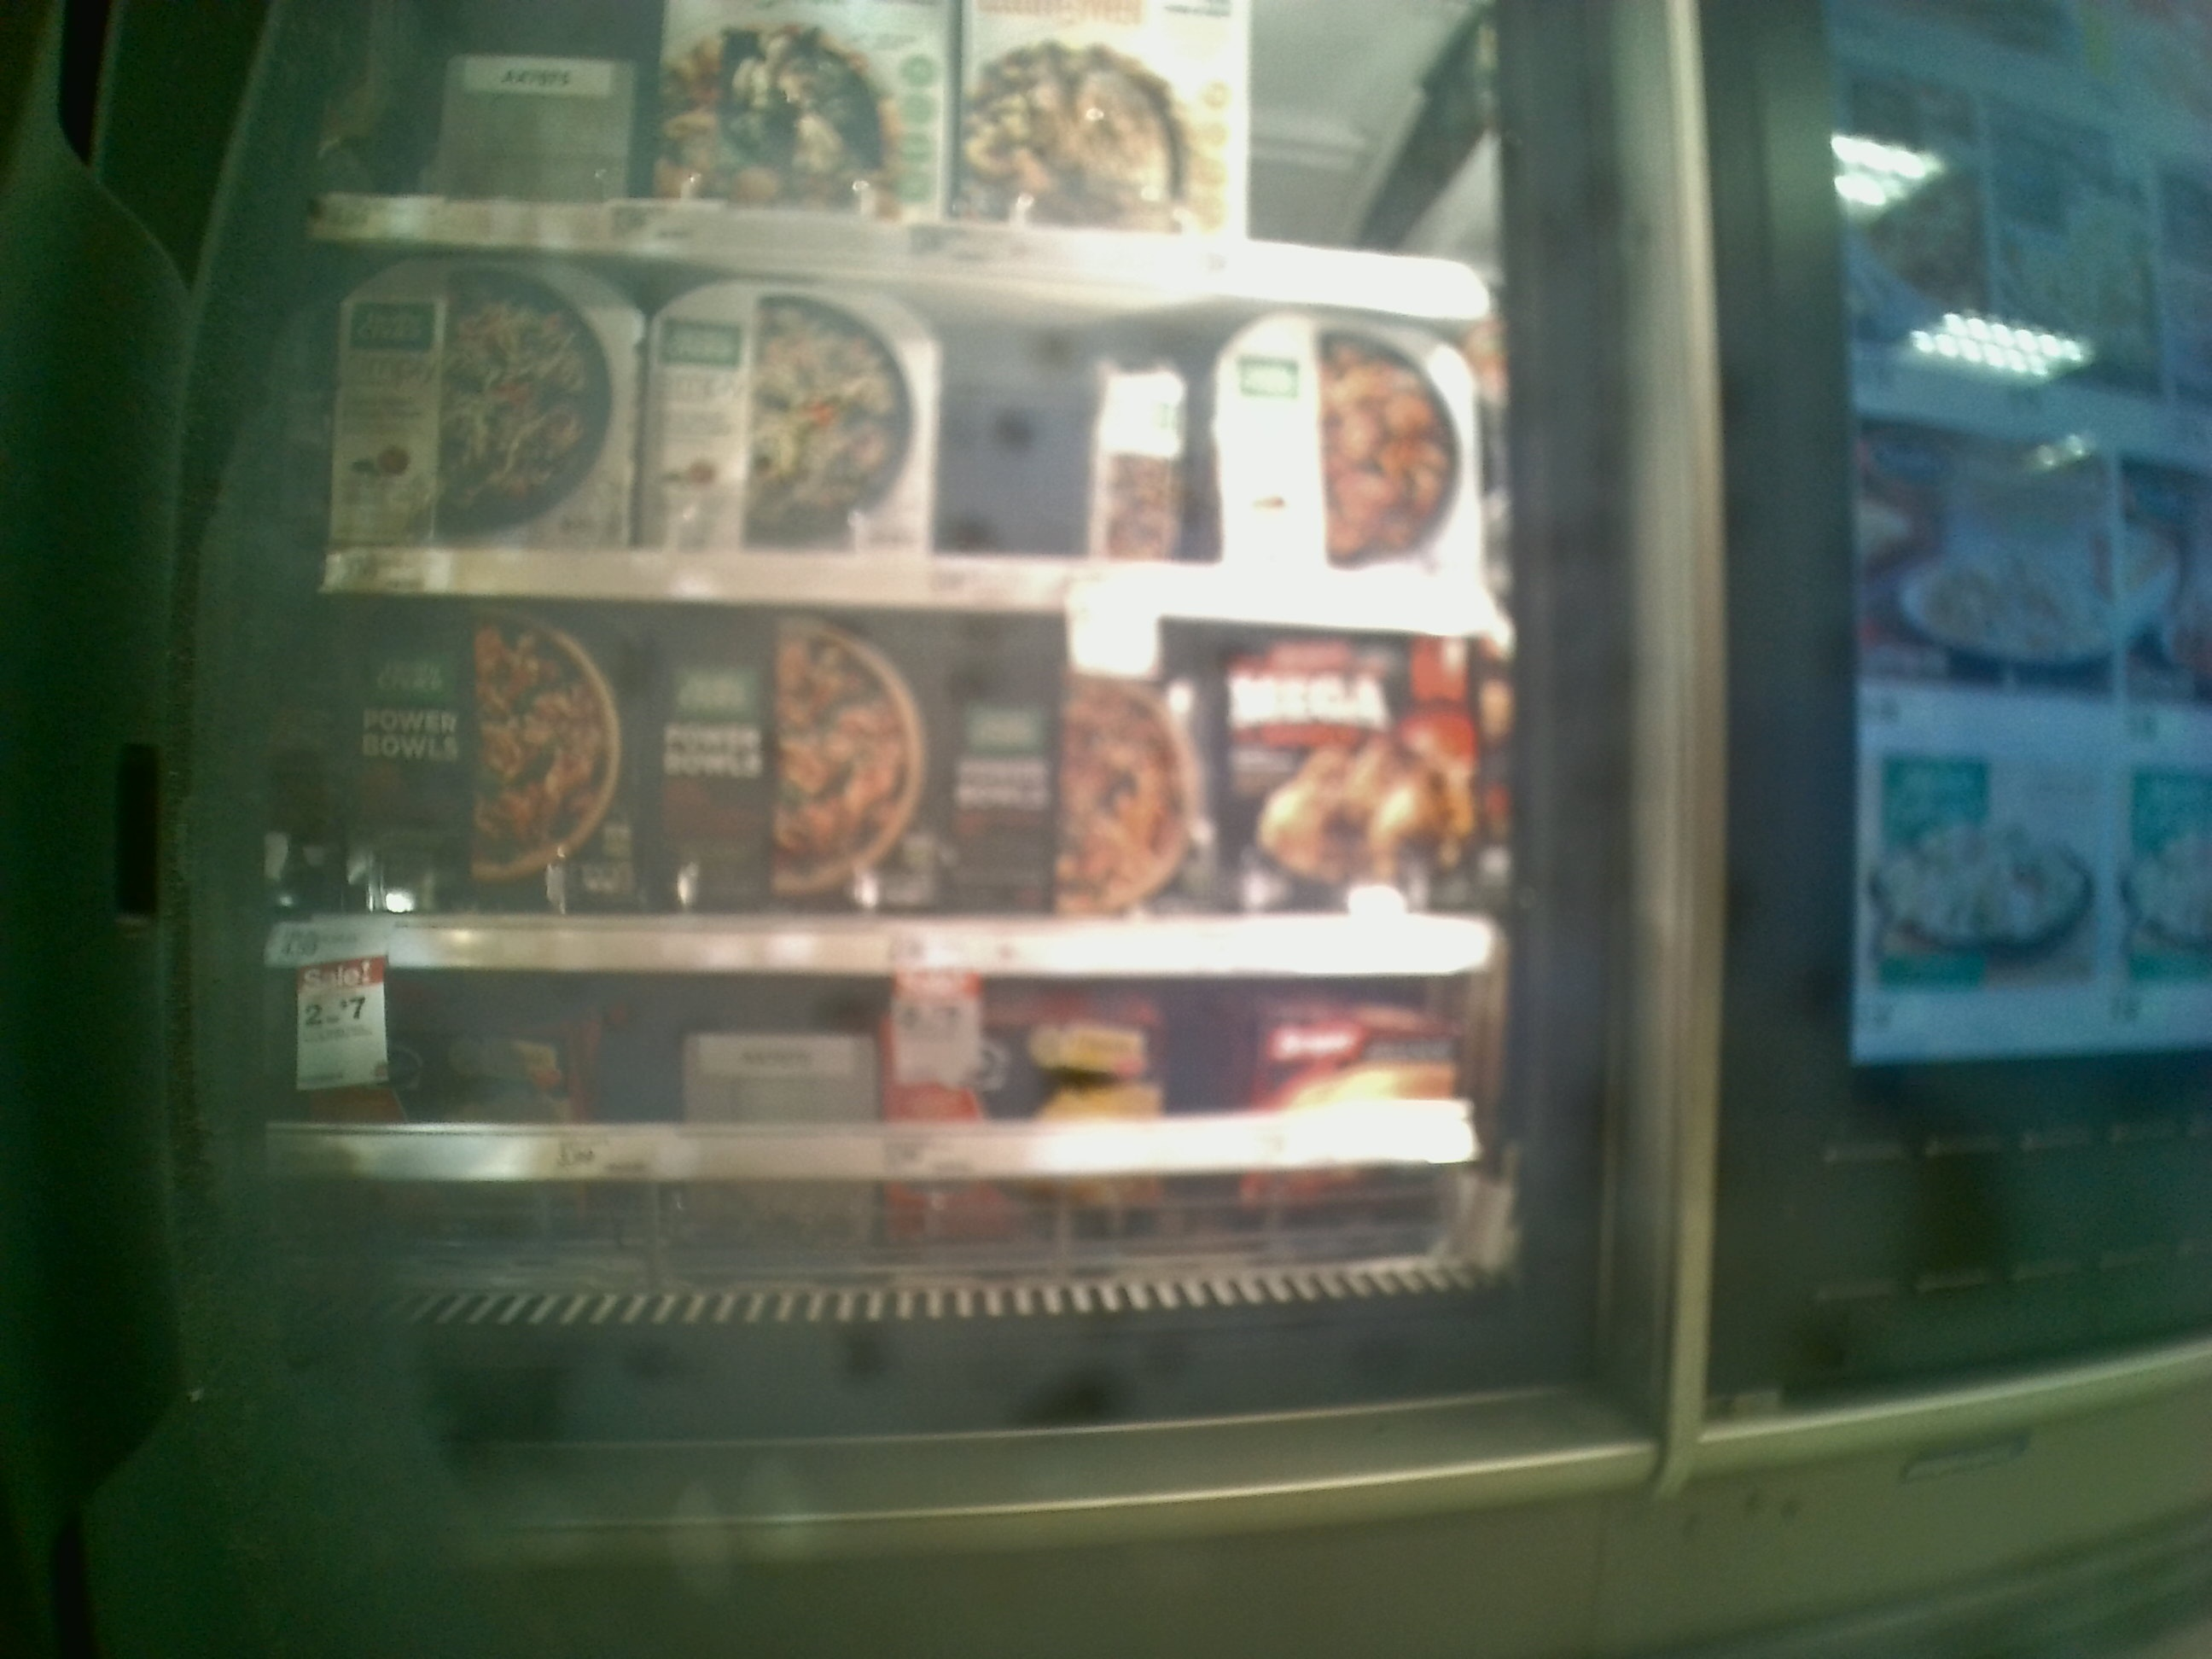shelf: (303, 237, 1498, 631), (308, 596, 1524, 978)
